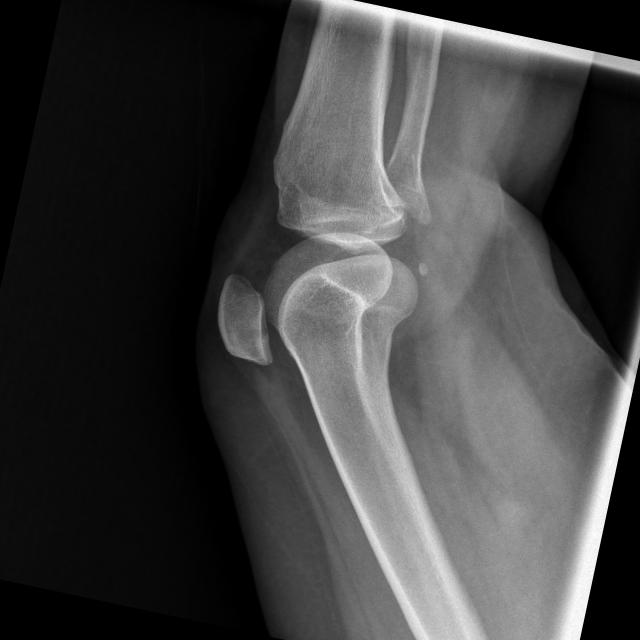Knee: (199, 150, 440, 397)
